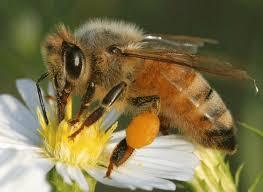Apis-mellifera-scutellata: (34, 6, 246, 179)
